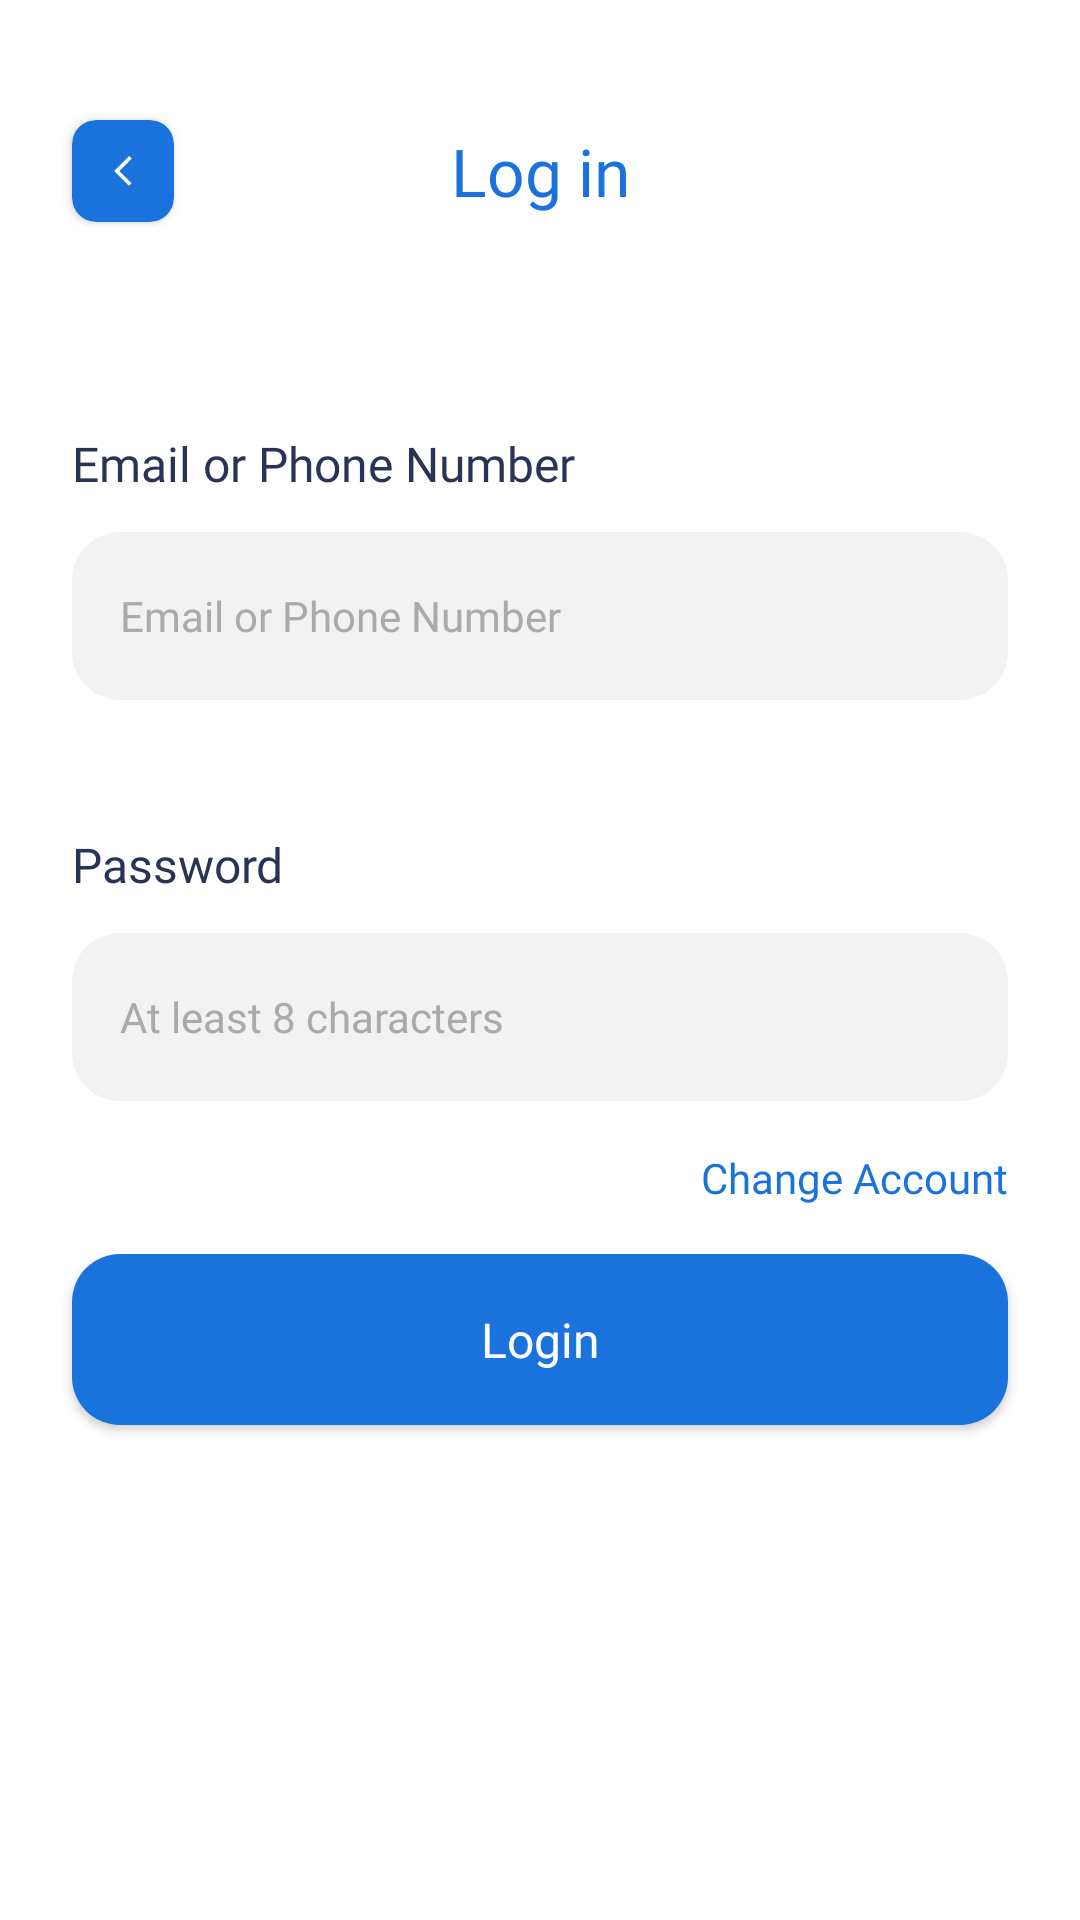

Where icons sit on this 1080x1920 app screen, as region(x1, y1, x2, y2):
arrow back: region(114, 156, 132, 186)
